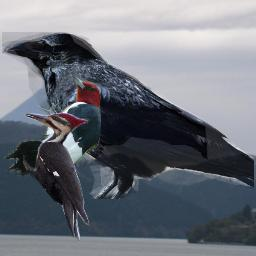Crow: (2, 32, 254, 199)
Woodpecker: (4, 74, 101, 185), (23, 113, 90, 241)
